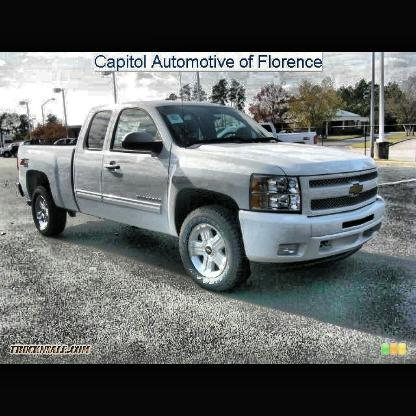Chevrolet Silverado 1500 Extended Cab 2012: (14, 100, 388, 292)
